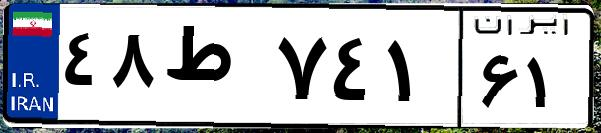1: (385, 28, 445, 110), (525, 38, 570, 115)
4: (330, 28, 385, 110), (57, 26, 110, 100)
6: (475, 38, 525, 113)
7: (270, 28, 330, 110)
8: (110, 28, 158, 98)
ط: (158, 20, 270, 120)
